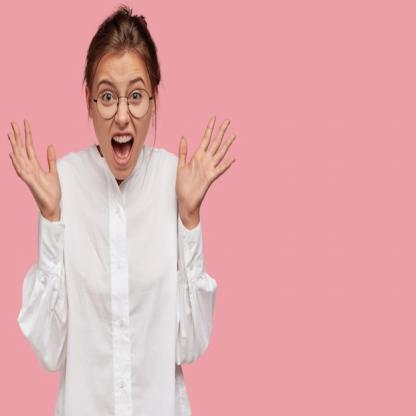stop: (174, 114, 238, 220), (6, 112, 66, 224)
